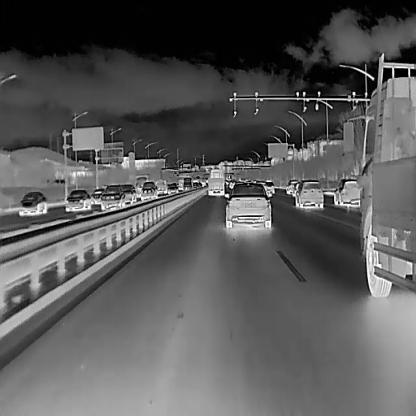car: (359, 51, 416, 297), (224, 180, 272, 230), (293, 178, 324, 208), (333, 176, 361, 209), (18, 190, 48, 215), (99, 183, 124, 210), (64, 189, 91, 212), (206, 168, 224, 195), (138, 180, 157, 200), (119, 183, 136, 203), (154, 176, 167, 195), (90, 187, 105, 203), (180, 176, 193, 193), (285, 178, 299, 193), (263, 180, 274, 194), (166, 183, 178, 193)
